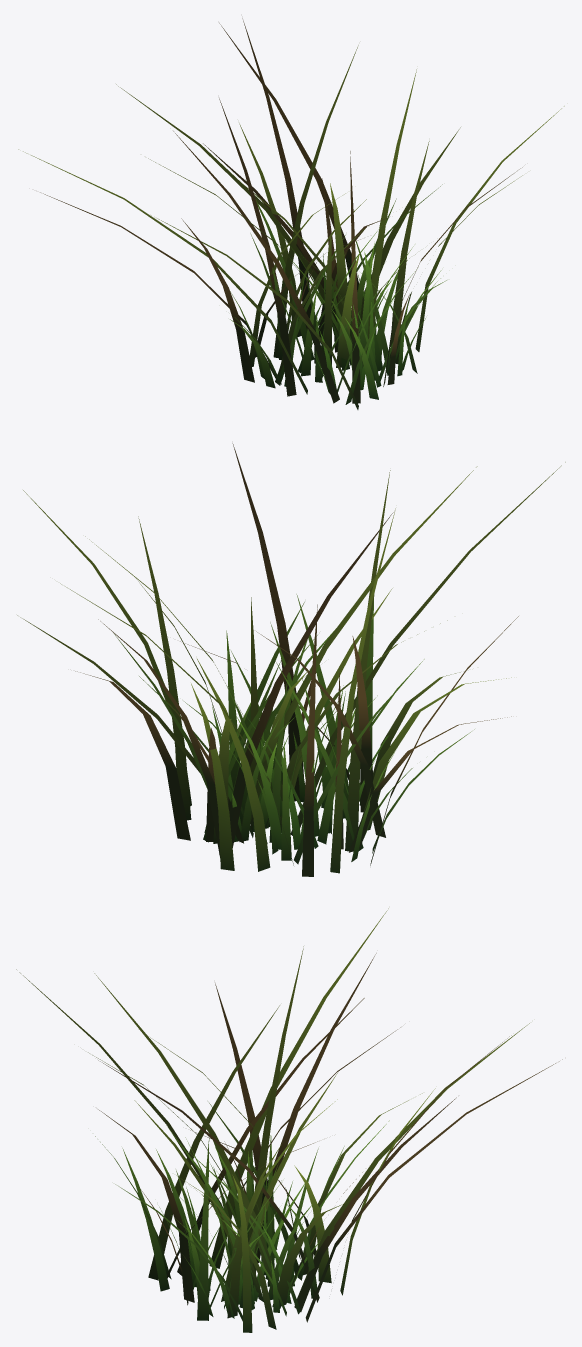
File: grass.glb
3 renders of one model, top to bottom at view 1: azimuth 30°, elevation 25°; view 2: azimuth 150°, elevation 25°; view 3: azimuth 270°, elevation 25°, orthographic. The views are drawn at different scales.
Parts seen in each view (by area): view 1: grass_tall, grass_mid, grass_short; view 2: grass_tall, grass_mid, grass_short; view 3: grass_tall, grass_mid, grass_short.
Part boxes in pixels (x1=…): grass_tall: x1=18, y1=18, x2=564, y2=409; grass_mid: x1=230, y1=178, x2=446, y2=404; grass_short: x1=281, y1=253, x2=425, y2=394; grass_tall: x1=17, y1=443, x2=565, y2=876; grass_mid: x1=113, y1=594, x2=474, y2=864; grass_short: x1=212, y1=679, x2=388, y2=854; grass_tall: x1=16, y1=908, x2=562, y2=1332; grass_mid: x1=95, y1=1103, x2=389, y2=1321; grass_short: x1=159, y1=1167, x2=320, y2=1316.
Bounding box in the file's own units: 1.4 × 0.7291 × 1.31.
